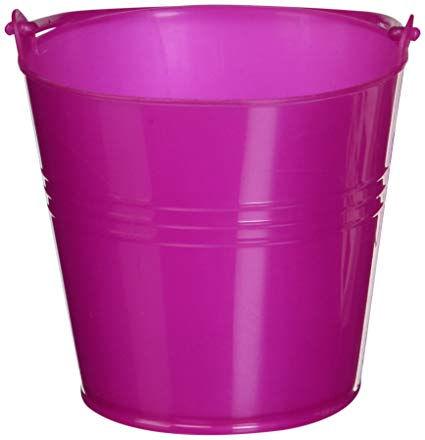Rec_Plastic: (1, 1, 398, 427)
